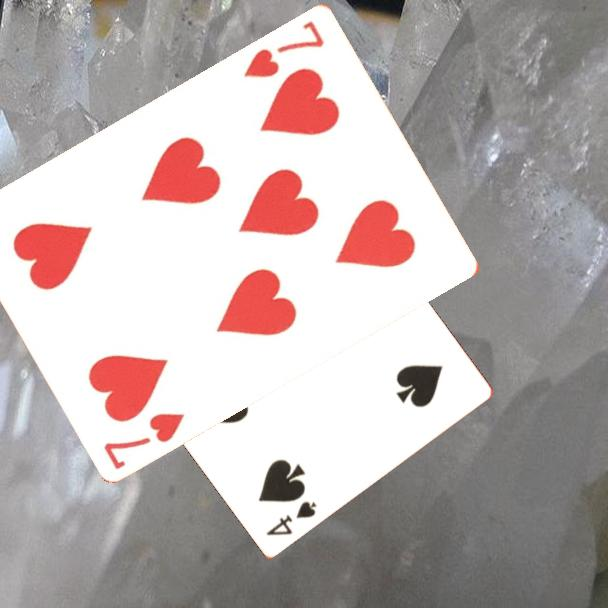h07: (100, 408, 188, 472), (240, 16, 327, 80)
s04: (263, 497, 320, 538)
